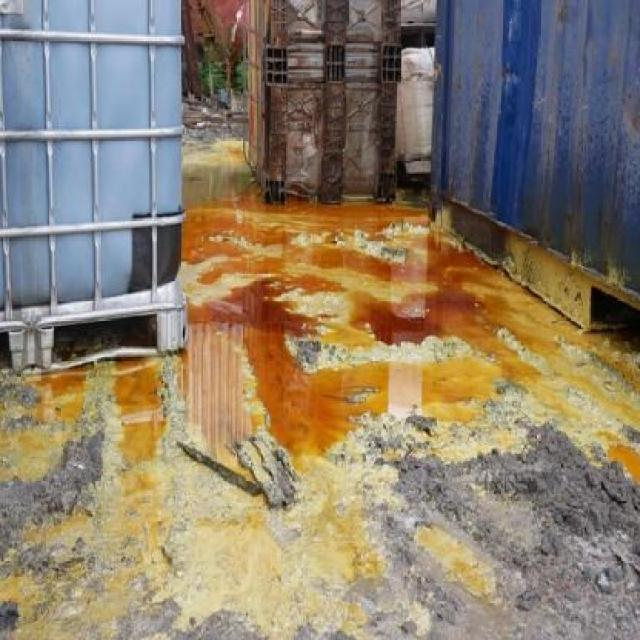spillage: (177, 199, 580, 474), (113, 358, 166, 465), (37, 368, 86, 397)
